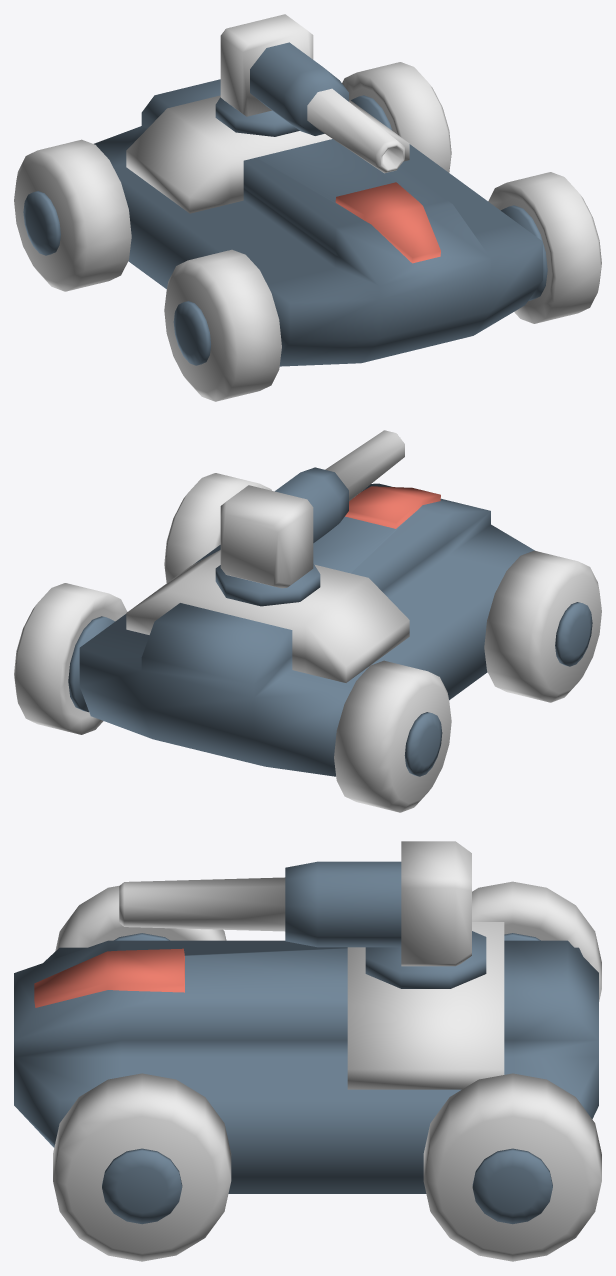
Rendered from CarWithCannon.glb.
The picture shows the model from 3 angles, top to bottom: view 1: azimuth 30°, elevation 25°; view 2: azimuth 150°, elevation 25°; view 3: azimuth 270°, elevation 25°; orthographic projection. The views are drawn at different scales.
Visible parts, largest first — view 1: Piece - Truck; view 2: Piece - Truck; view 3: Piece - Truck.
Part boxes in pixels (box(x1,y1,x2,y2)): Piece - Truck: box(14, 14, 601, 401); Piece - Truck: box(14, 430, 601, 812); Piece - Truck: box(14, 841, 601, 1261).
Bounding box in the file's own units: 0.5141 × 0.2976 × 0.5402.
